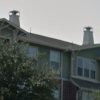Chimney: (5, 5, 39, 36)
